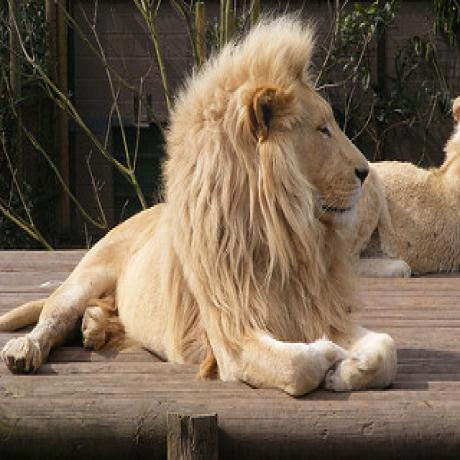Lion: (6, 22, 400, 391)
